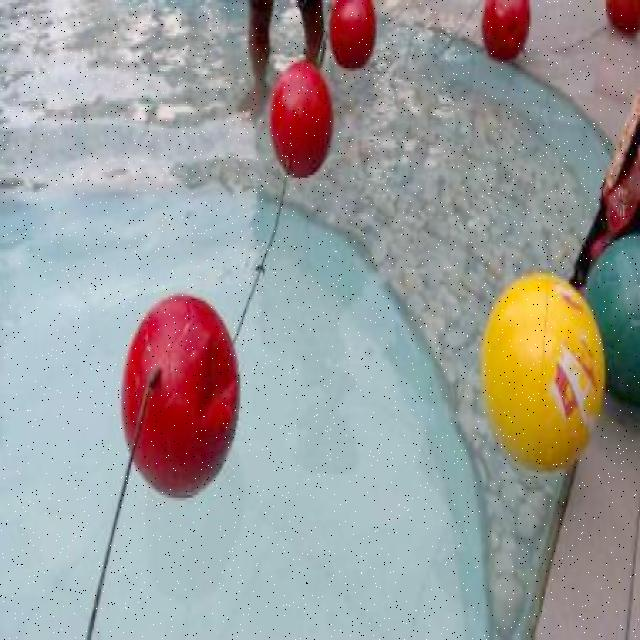buoy: (482, 270, 605, 474), (120, 294, 240, 500), (583, 232, 639, 408), (267, 62, 333, 178), (329, 1, 375, 70), (479, 0, 529, 60)
